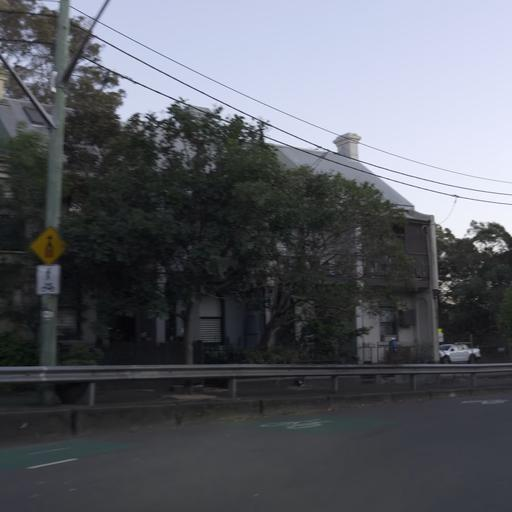Street light: (0, 0, 74, 404)
